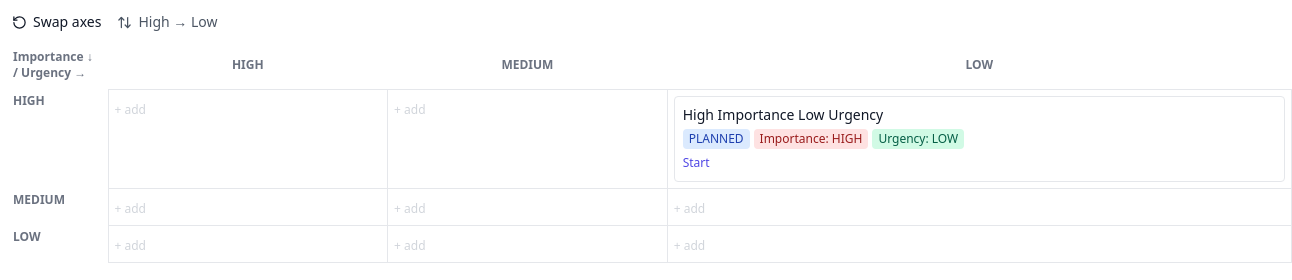
Test: TaskMatrix › moves HIGH-importance/LOW-urgency task to cell-LOW-HIGH after axis swap
The width and height of the screenshot is (1292, 280).
Click the button with test id "swap-axes" at (57, 22), box left=12, top=12, right=101, bottom=32
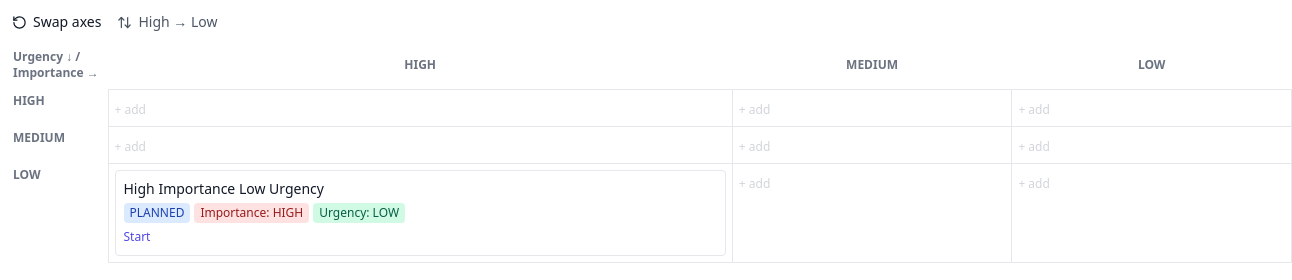
Expected: the cell with test id "cell-HIGH-LOW" does not show "High Importance Low Urgency", left=1012, top=89, right=1291, bottom=126
Now the cell with test id "cell-LOW-HIGH" shows "High Importance Low Urgency", box left=124, top=178, right=324, bottom=198
